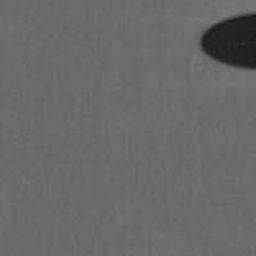Punching: (200, 12, 256, 69)
